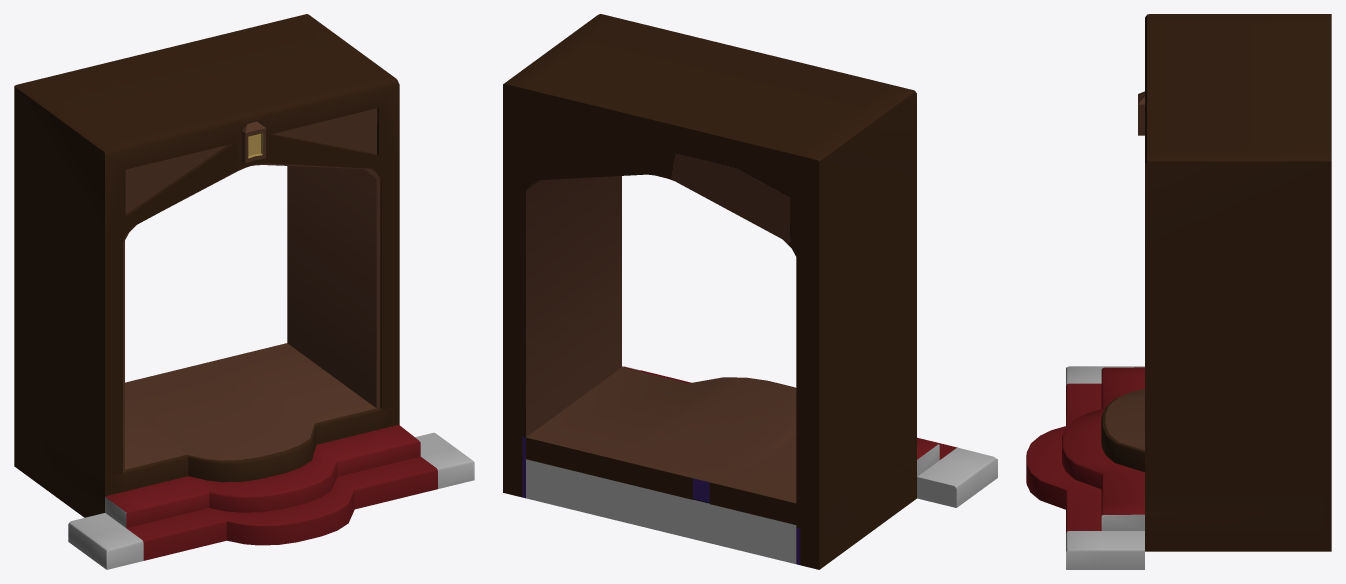
The model's file is MiscMainEntryUV.fbx.
The picture shows the model from 3 angles, left to right: view 1: azimuth 30°, elevation 25°; view 2: azimuth 150°, elevation 25°; view 3: azimuth 270°, elevation 25°; orthographic projection. The views are drawn at different scales.
Visible parts, largest first — view 1: polySurface43; view 2: polySurface43; view 3: polySurface43.
Boxes of the visible parts, left/top/right/bottom form: polySurface43: left=14, top=14, right=474, bottom=569; polySurface43: left=503, top=14, right=997, bottom=569; polySurface43: left=1026, top=14, right=1331, bottom=569.
Bounding box in the file's own units: 406 × 402 × 284.
